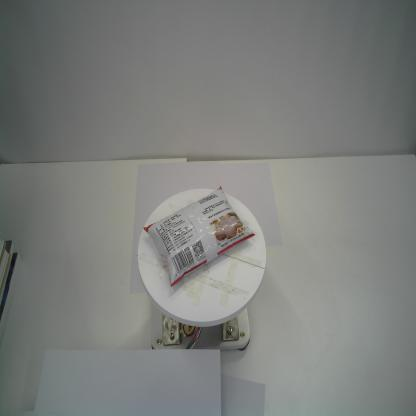Seasoner: (143, 185, 256, 288)
